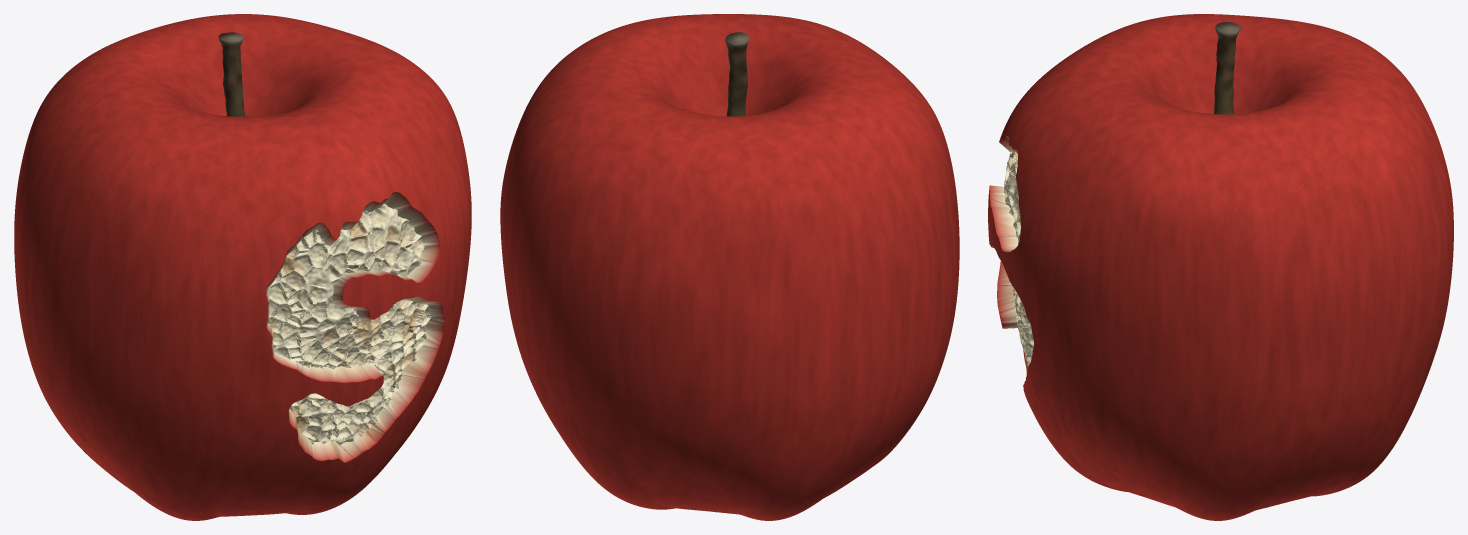
Rendered from pomme_apple_bite.glb.
The picture shows the model from 3 angles, left to right: view 1: azimuth 30°, elevation 25°; view 2: azimuth 150°, elevation 25°; view 3: azimuth 270°, elevation 25°; orthographic projection.
Parts seen in each view (by area): view 1: Apple, Stem; view 2: Apple, Stem; view 3: Apple, Stem.
Boxes of the visible parts, x1,y1,x2,y2 form: Apple: (14,14,471,520); Stem: (218,32,245,116); Apple: (500,14,959,520); Stem: (725,32,748,116); Apple: (988,14,1453,520); Stem: (1214,22,1241,114).
Bounding box in the file's own units: 2 × 2.17 × 2.03.
Materials: 3 (1 with a texture image).
